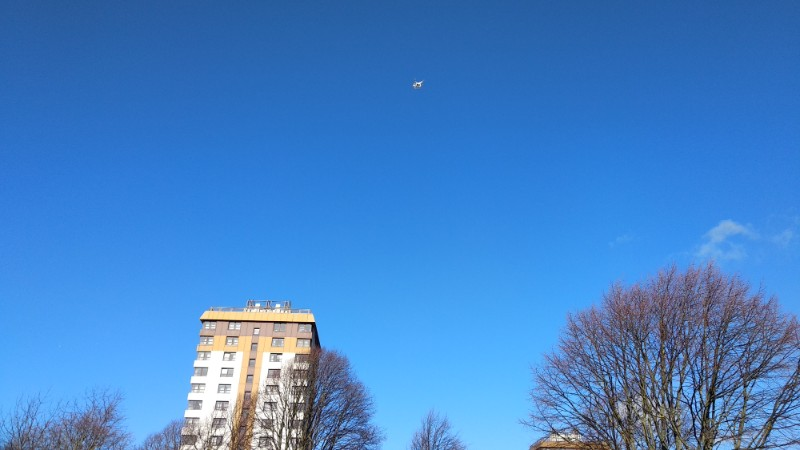drone: (411, 78, 424, 91)
